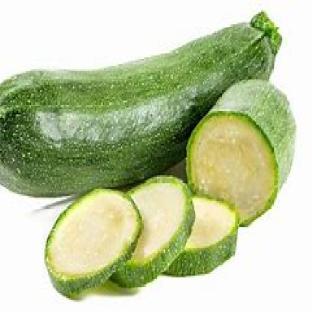Zucchini: (0, 13, 280, 195), (188, 80, 296, 225), (46, 189, 141, 296), (112, 177, 194, 287), (167, 196, 239, 275)
